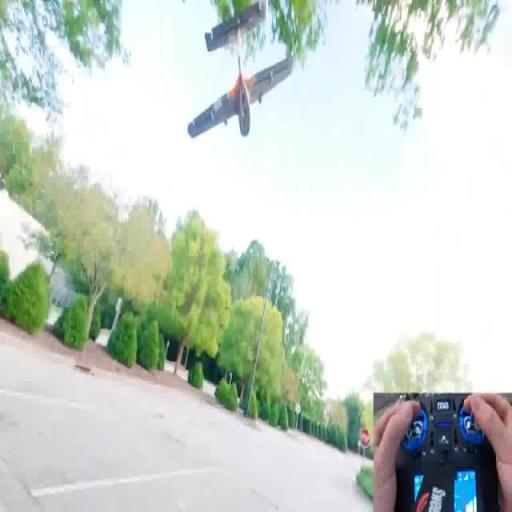uav: (186, 8, 298, 146)
